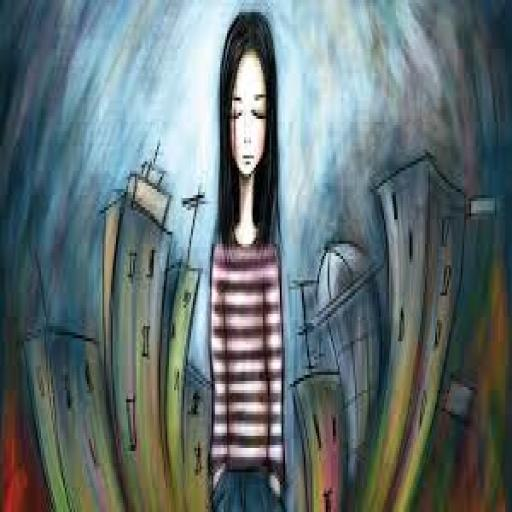person: (197, 8, 296, 509)
